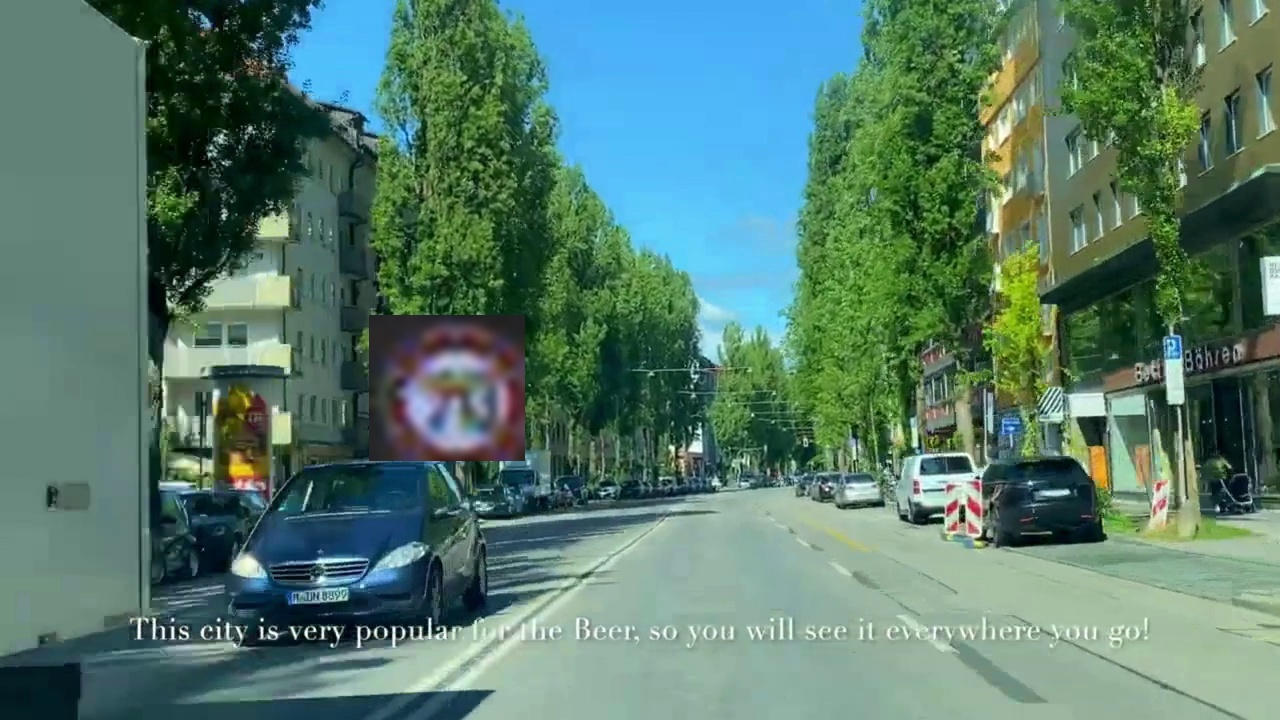Speed 70: (369, 315, 525, 461)
